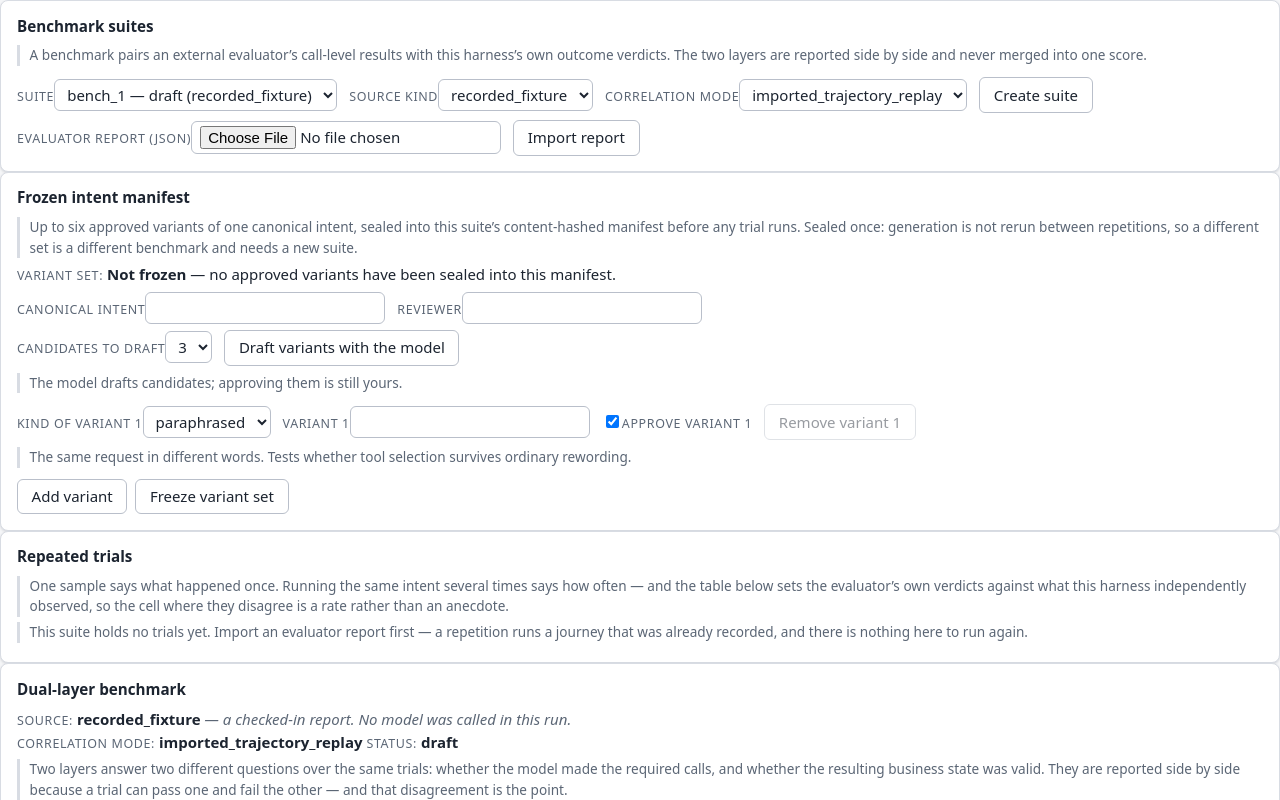
Test case: BenchmarkSection — drafting variants with the model › fills the rows with what the model proposed
Type "Add one ceramic mug to the cart and apply the SAVE20 discount." into the field labelled "Canonical intent" at [265, 308], box [145,292,385,324]
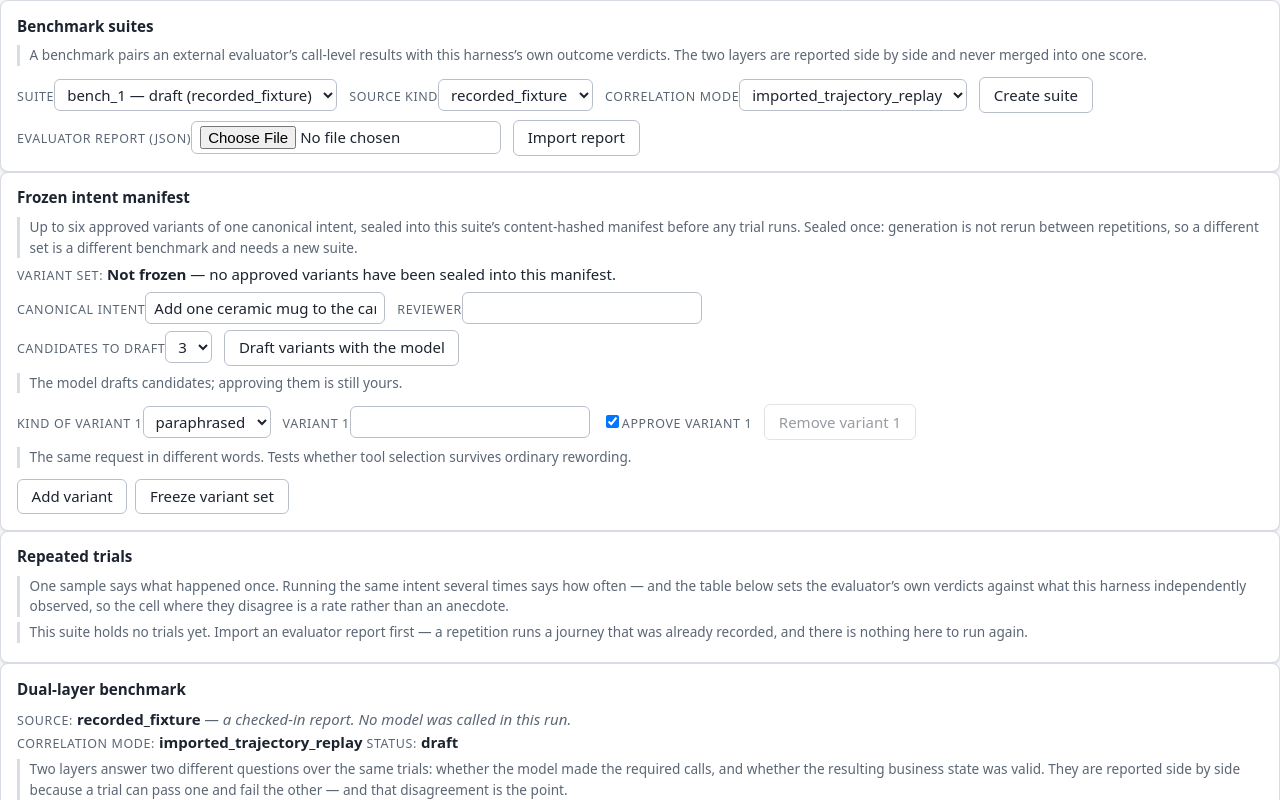
Click the button "Draft variants with the model" at [342, 348], box [224,330,460,366]
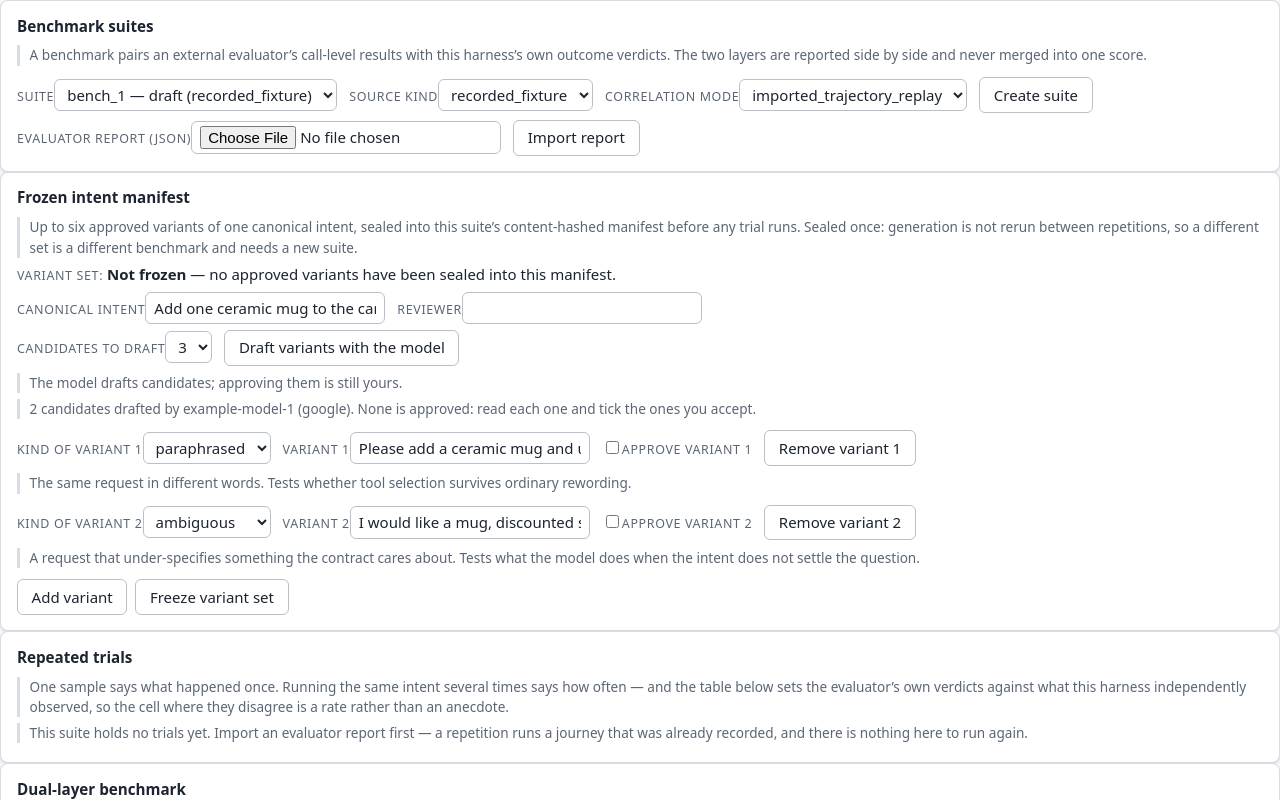
Expected: the field labelled "Variant 2" is shown, [350,506,590,539]
Expected: the field labelled "Variant 1" holds "Please add a ceramic mug and use the SAVE20 code.", [350,432,590,464]
Expected: the dropdown labelled "Kind of variant 2" shows "ambiguous", [142,506,270,538]
